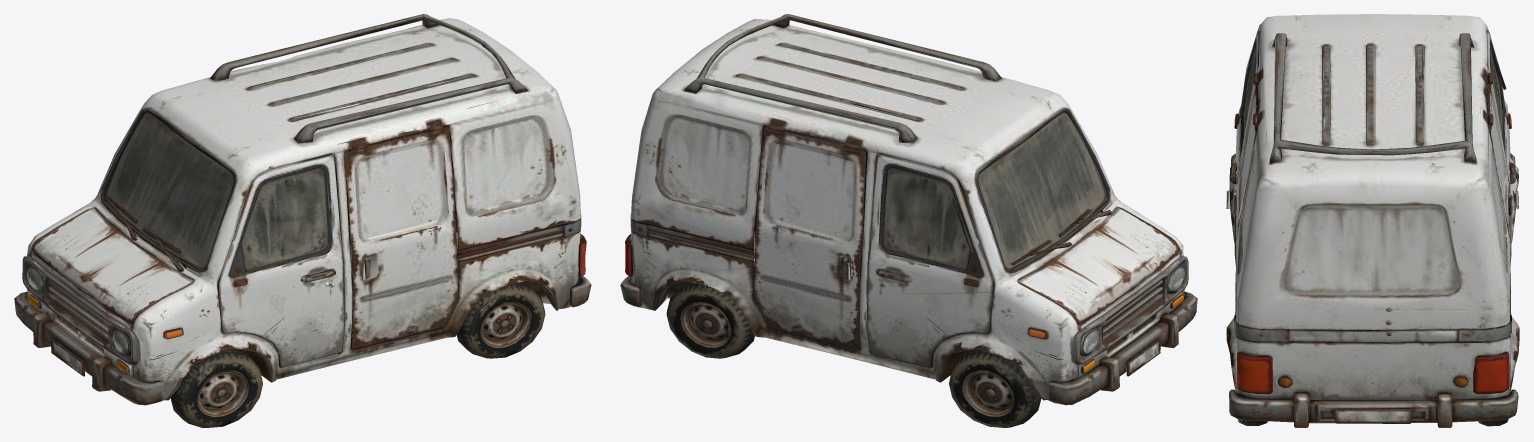
File: car2.glb
3 views of the same model, side by side, from view 1: azimuth 30°, elevation 25°; view 2: azimuth 150°, elevation 25°; view 3: azimuth 270°, elevation 25° (orthographic). The views are drawn at different scales.
Visible parts, largest first — view 1: car2; view 2: car2; view 3: car2.
Boxes of the visible parts, x1,y1,x2,y2 form: car2: (14, 14, 591, 427); car2: (620, 14, 1197, 427); car2: (1226, 14, 1519, 427).
Size of the model in its own units: 1.9 by 1.01 by 0.92.
Materials: 1 (1 with a texture image).
